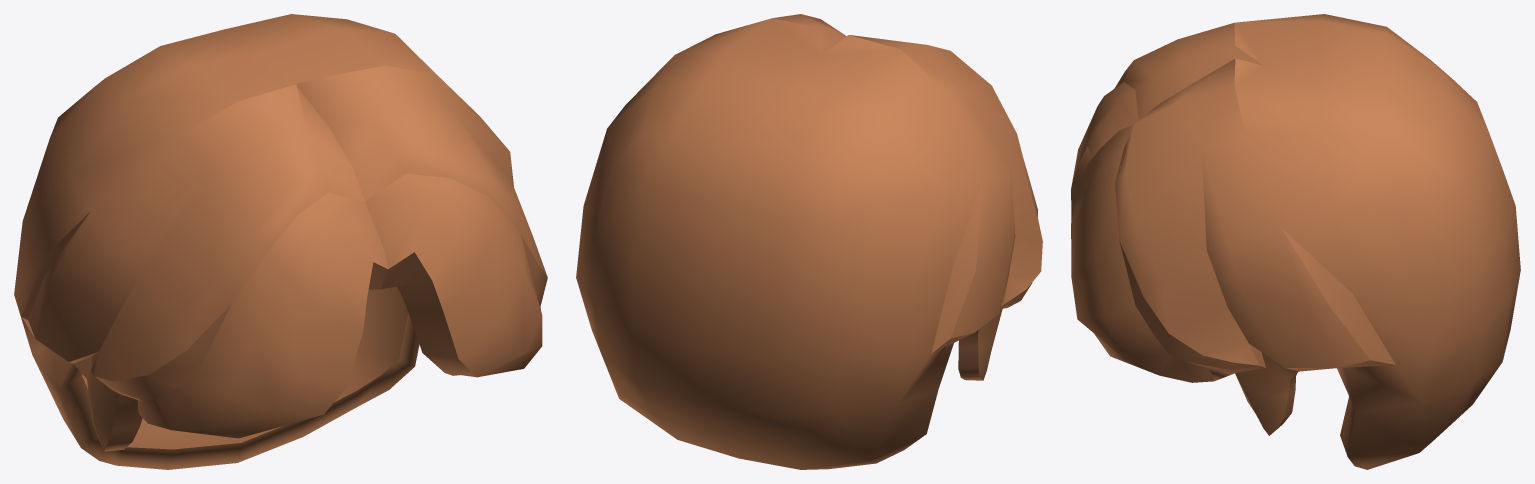
File: Hair_2.fbx
3 views of the same model, side by side, from view 1: azimuth 30°, elevation 25°; view 2: azimuth 150°, elevation 25°; view 3: azimuth 270°, elevation 25° (orthographic). The views are drawn at different scales.
Visible parts, largest first — view 1: Hair_2; view 2: Hair_2; view 3: Hair_2.
Boxes of the visible parts, <box> form: Hair_2: <box>14,14,547,469</box>; Hair_2: <box>576,14,1042,469</box>; Hair_2: <box>1071,14,1520,469</box>.
Bounding box in the file's own units: 56.6 × 53.19 × 55.74.
